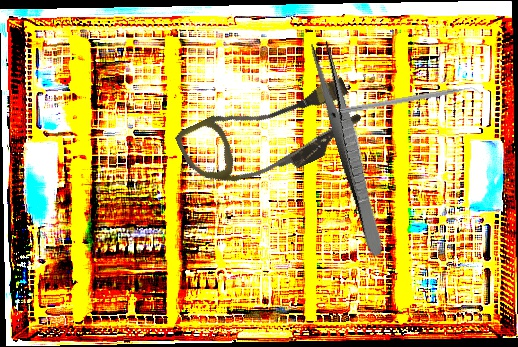Cannula: (173, 57, 369, 212)
Chopper: (339, 83, 483, 122)
Dressing Forceps: (307, 39, 392, 258)
